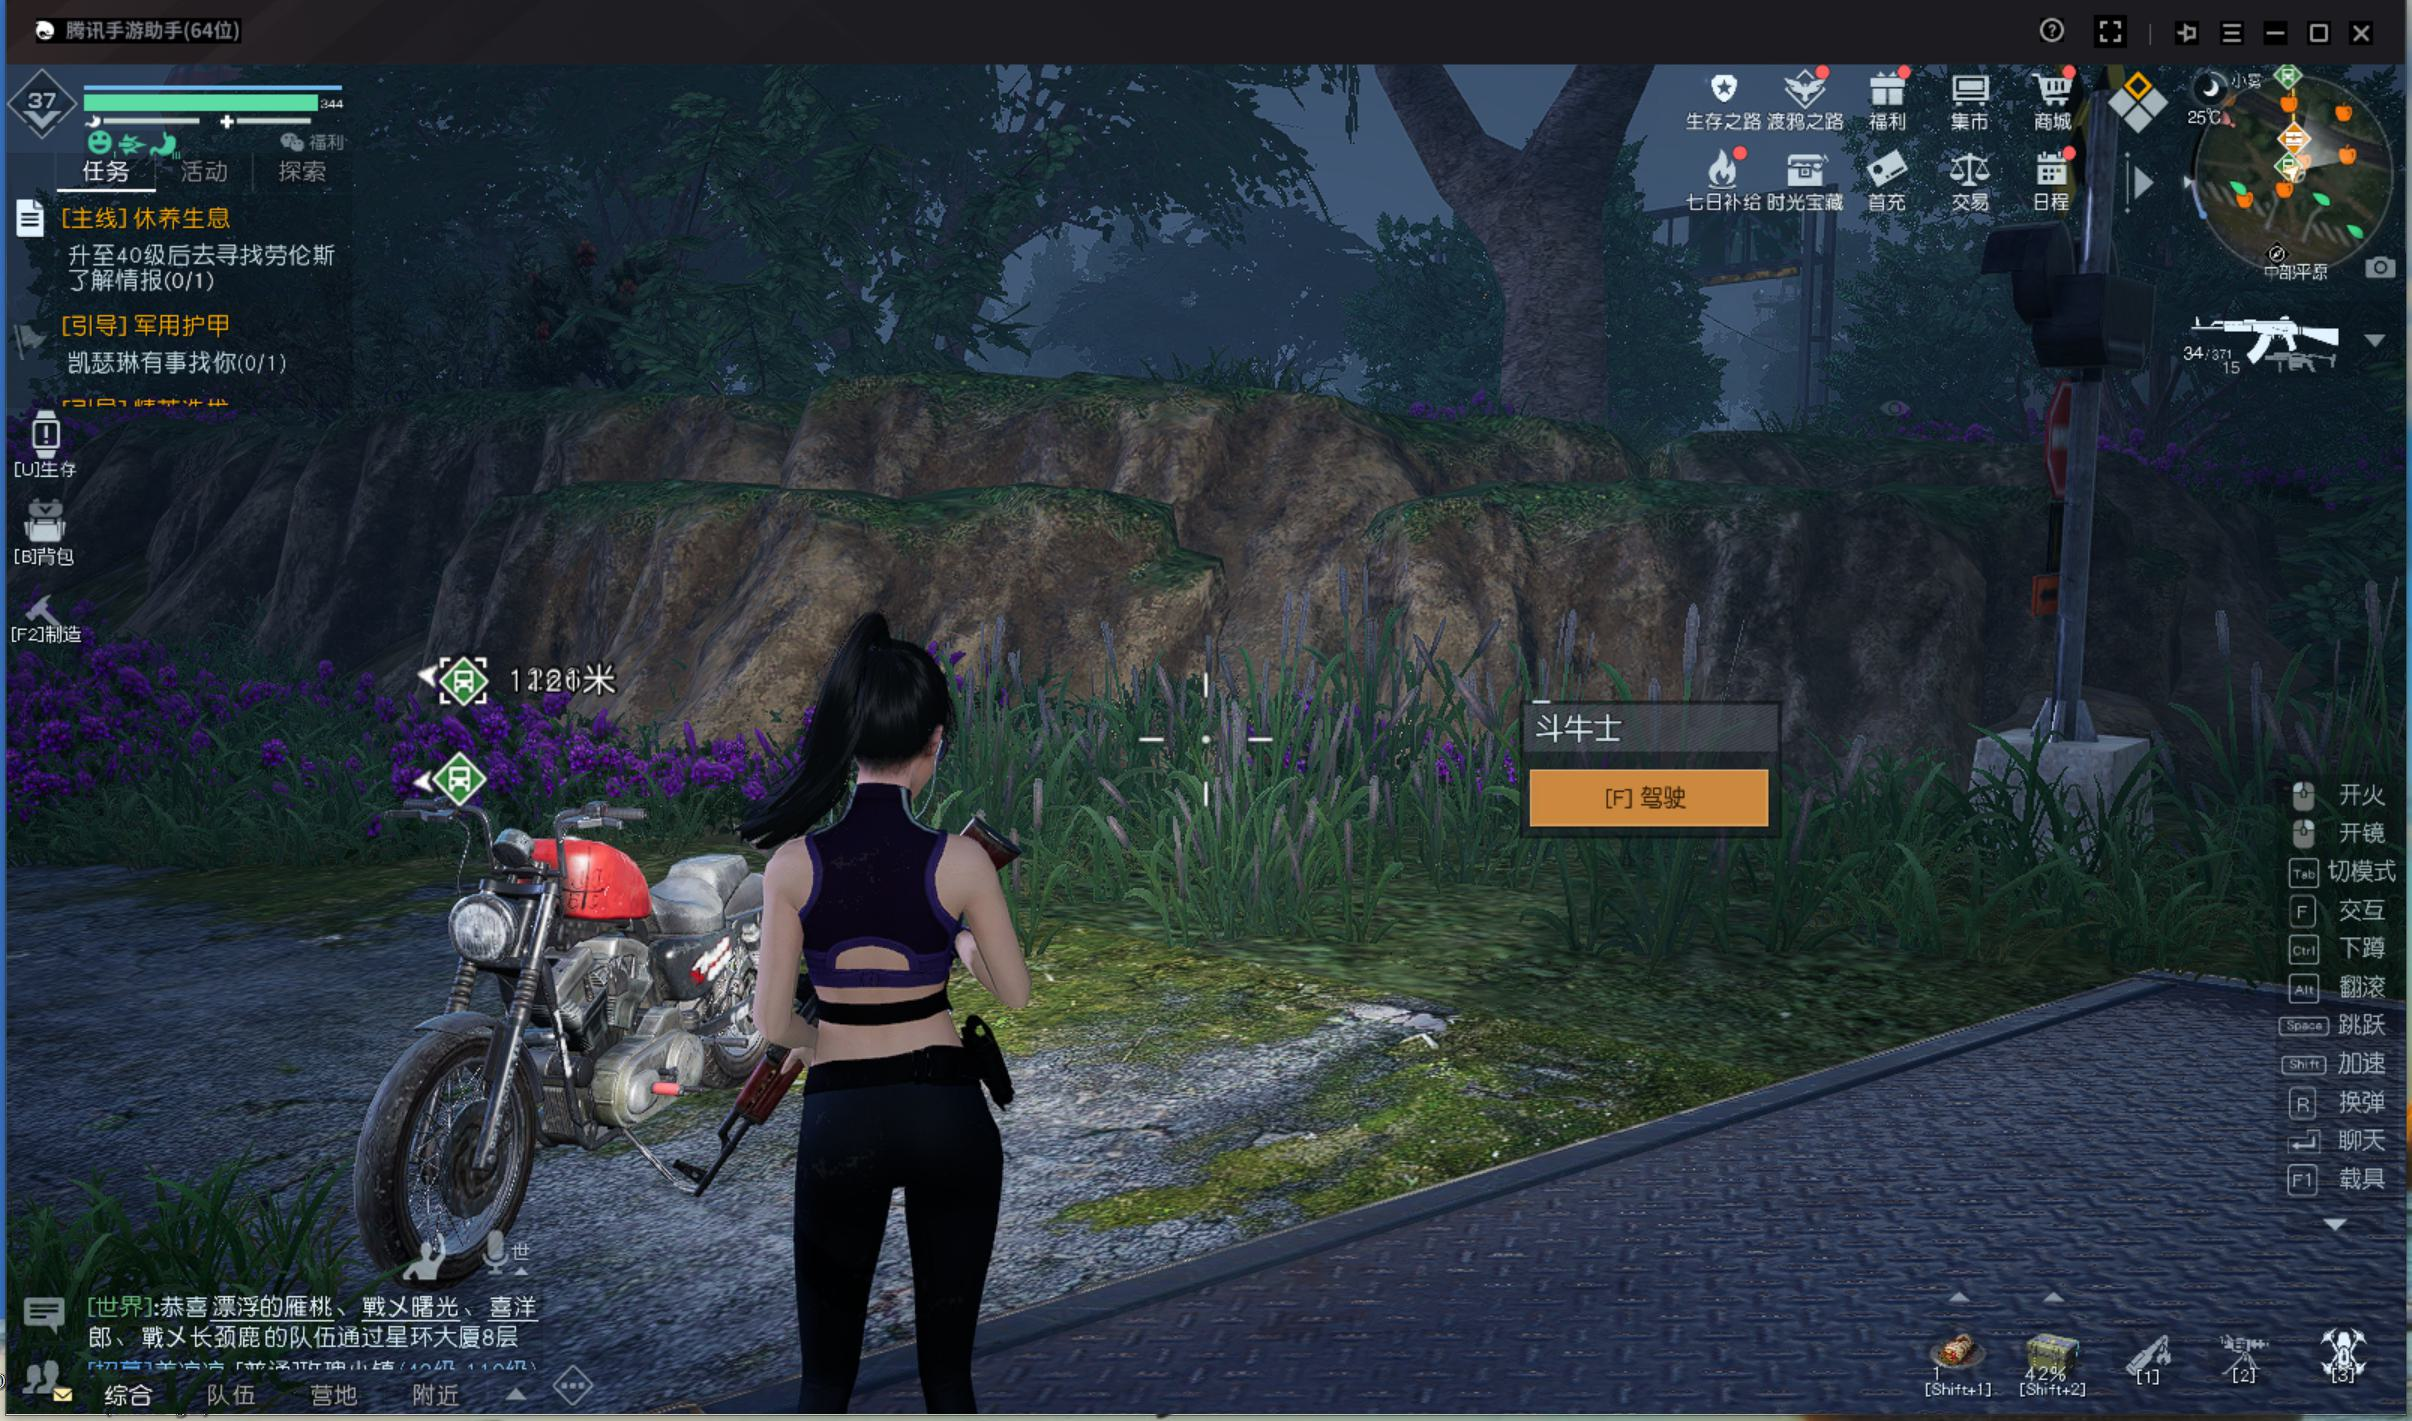tree: (1465, 147, 1651, 486)
